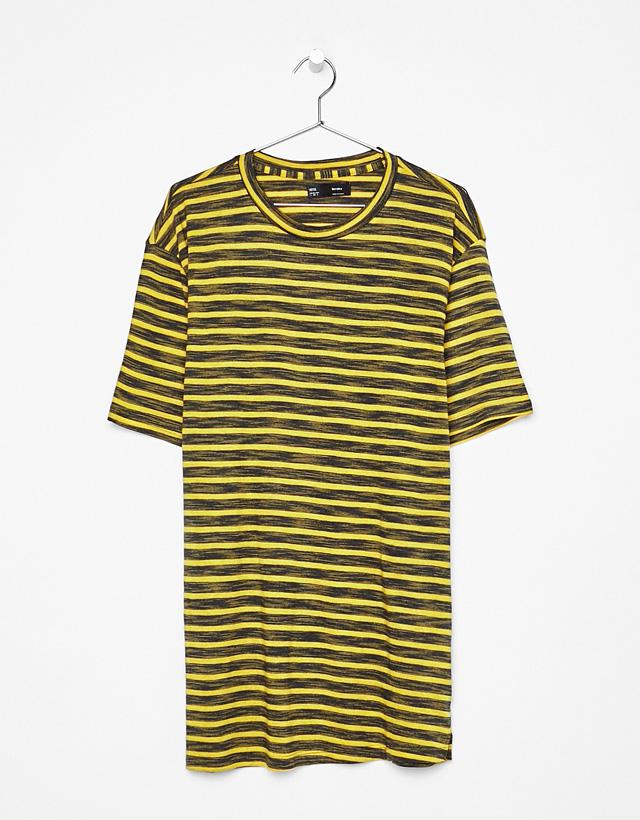teeshirt: (102, 147, 550, 791)
